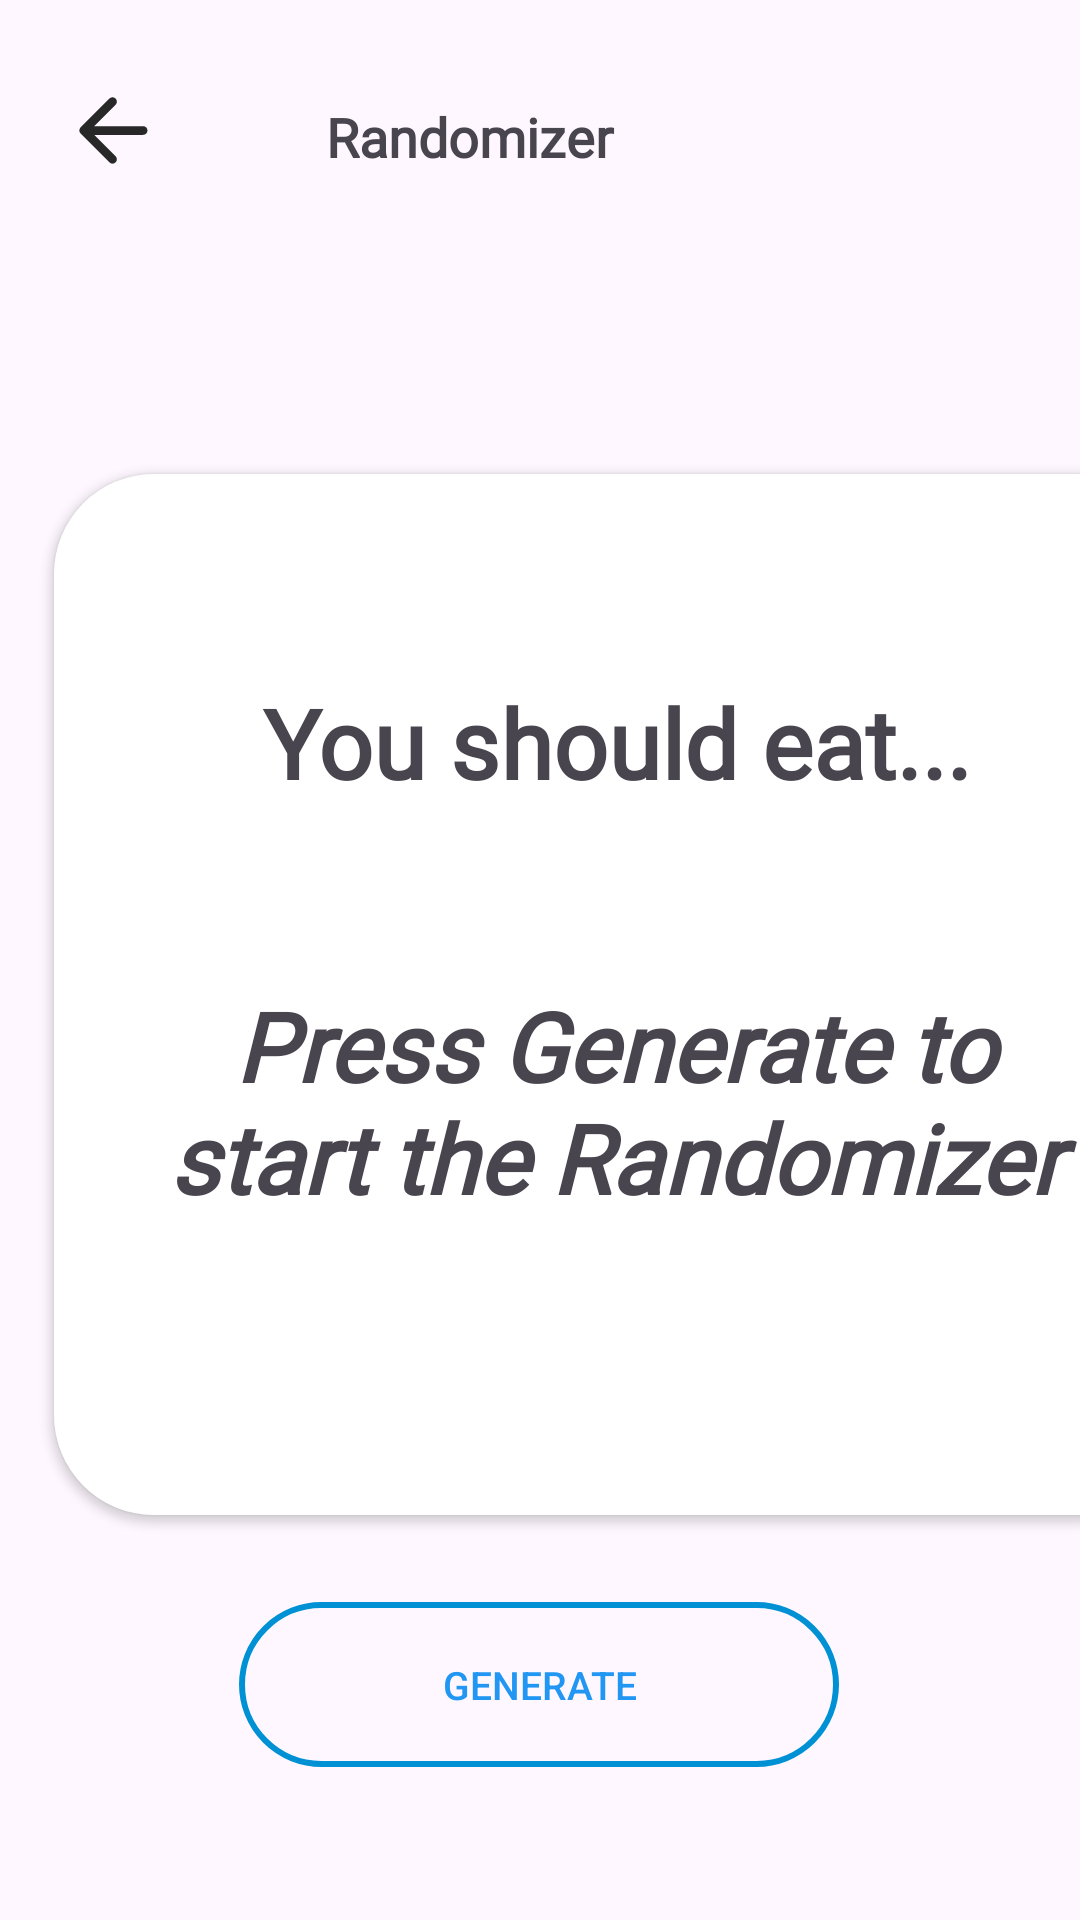

Where icons sit on this 1080×1920 app screen, as (x1, y1, x2, y2):
backb: (79, 97, 148, 164)
